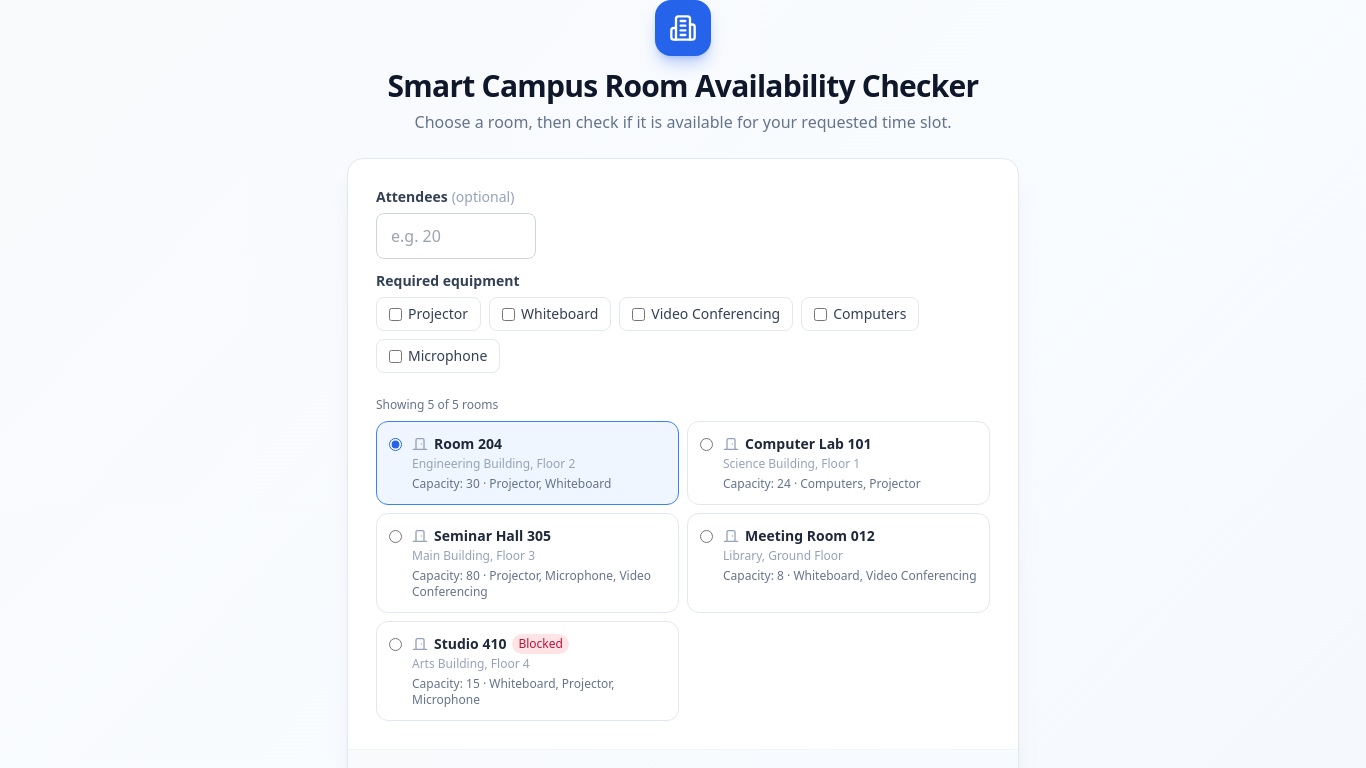
Test case: RoomChecker UI › F2 via UI: selecting Projector + Microphone leaves two rooms
Click the checkbox labelled "Projector". click: (396, 314)
box: [389,308,402,320]
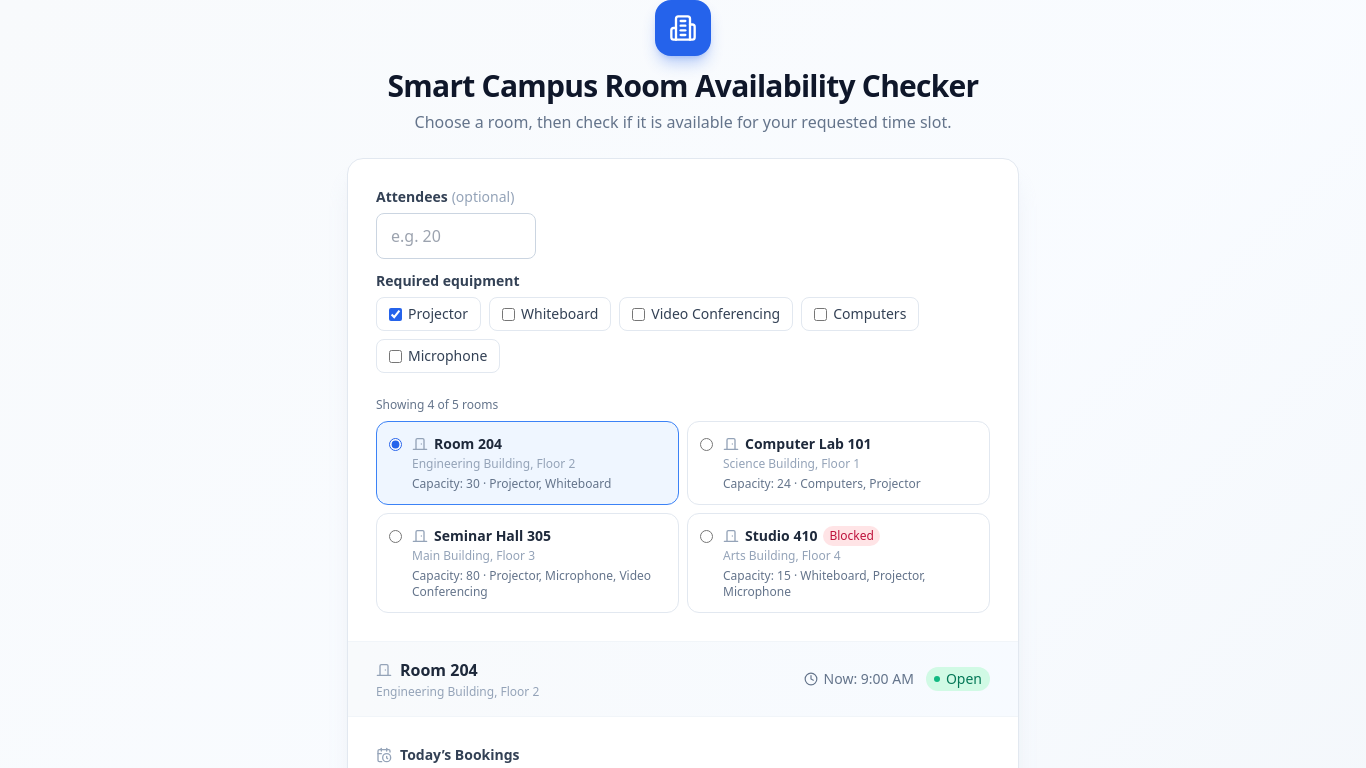
Click the checkbox labelled "Microphone". click: (396, 356)
box: [389,350,402,362]
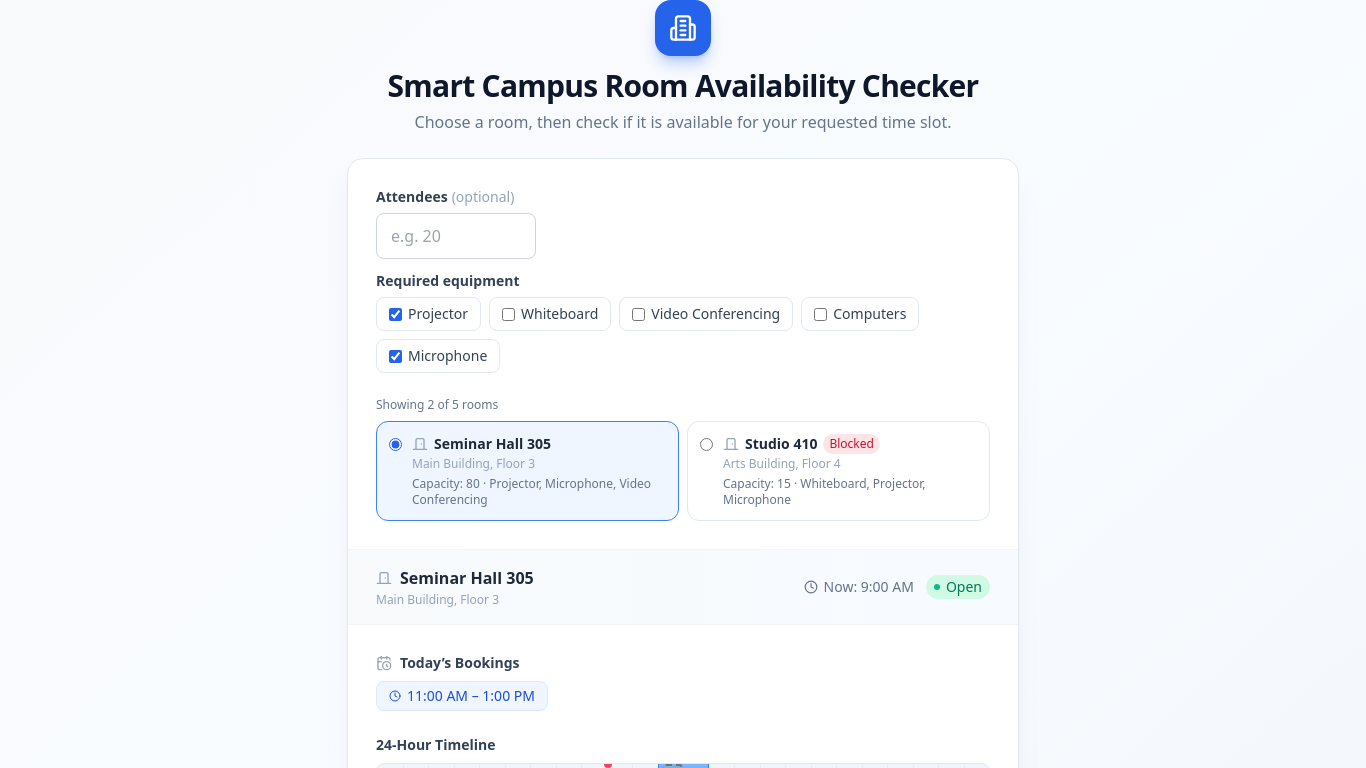
Expected: the number of radio buttons is 2, [389,438,402,451]; [700,438,713,451]
